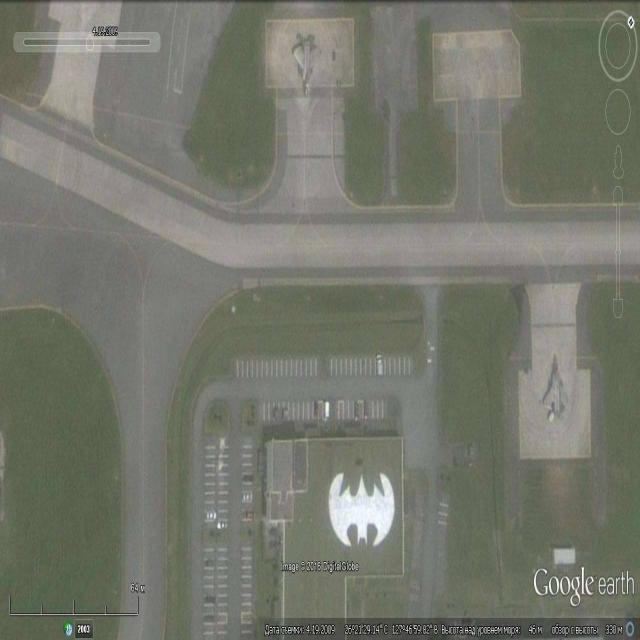MIL_Plane: (543, 352, 569, 424), (293, 33, 319, 95)
